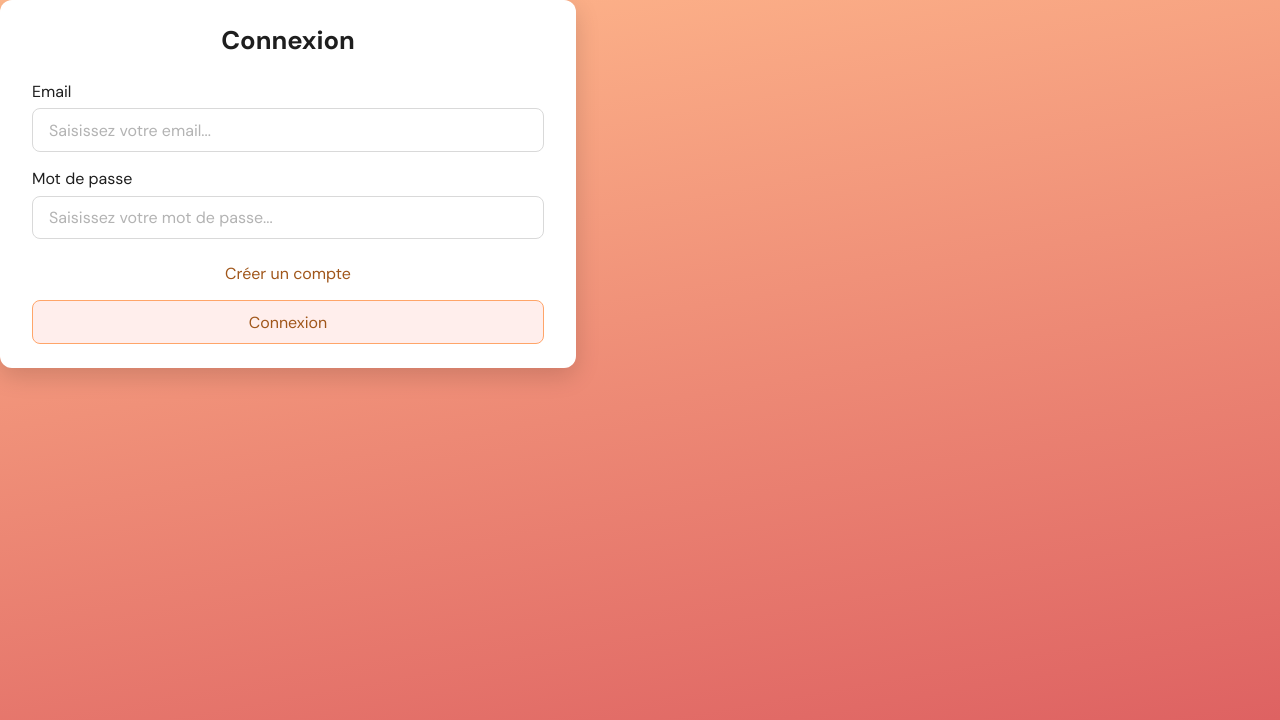
Test: Page Connexion › affiche un message sous chaque champ invalide, sans appeler l’API
Step 1. Click the button "Connexion" → (288, 322), box [32, 300, 544, 344]
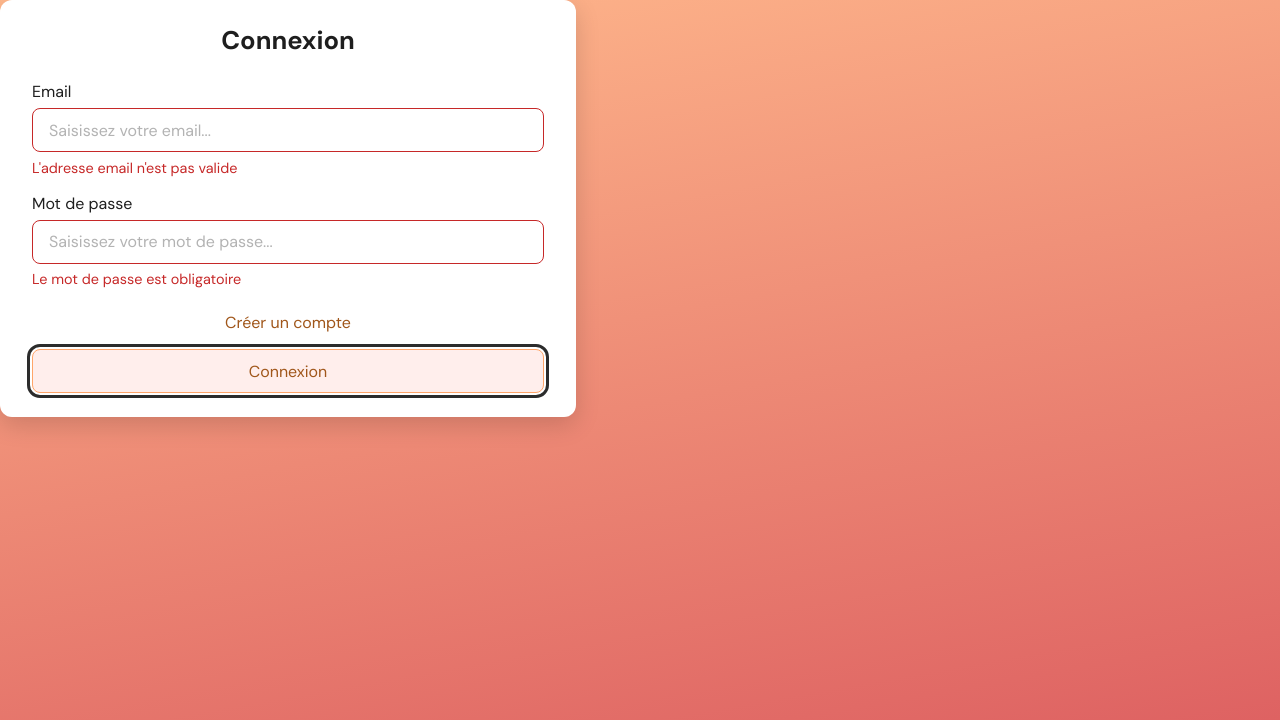
Now the text "L'adresse email n'est pas valide" is shown, box [32, 159, 237, 177]
Now the text "Le mot de passe est obligatoire" is shown, box [32, 270, 241, 288]
